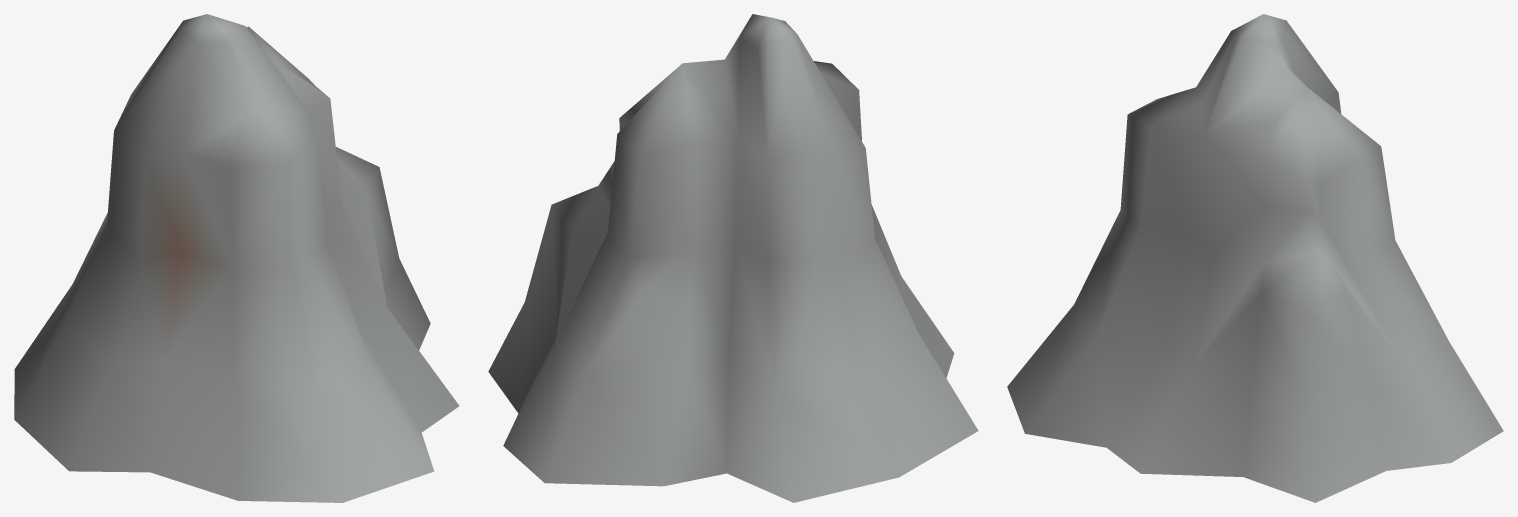
3 renders of one model, left to right at view 1: azimuth 30°, elevation 25°; view 2: azimuth 150°, elevation 25°; view 3: azimuth 270°, elevation 25°, orthographic. The views are drawn at different scales.
Parts seen in each view (by area): view 1: G:\FFXIV-MapTools\exports\n4f3\bg\ex3\01_nvt_n4\fld\n4f3\bgp; view 2: G:\FFXIV-MapTools\exports\n4f3\bg\ex3\01_nvt_n4\fld\n4f3\bgp; view 3: G:\FFXIV-MapTools\exports\n4f3\bg\ex3\01_nvt_n4\fld\n4f3\bgp.
Part boxes in pixels (x1=…): G:\FFXIV-MapTools\exports\n4f3\bg\ex3\01_nvt_n4\fld\n4f3\bgp: x1=14, y1=14, x2=459, y2=502; G:\FFXIV-MapTools\exports\n4f3\bg\ex3\01_nvt_n4\fld\n4f3\bgp: x1=488, y1=14, x2=978, y2=502; G:\FFXIV-MapTools\exports\n4f3\bg\ex3\01_nvt_n4\fld\n4f3\bgp: x1=1007, y1=14, x2=1503, y2=502.
Bounding box in the file's own units: 3.16 × 2.79 × 3.38.
